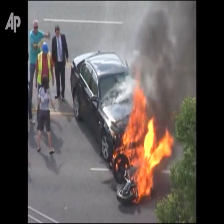fire_h: (113, 84, 174, 203)
fire_l: (114, 158, 129, 172), (110, 146, 118, 167)
